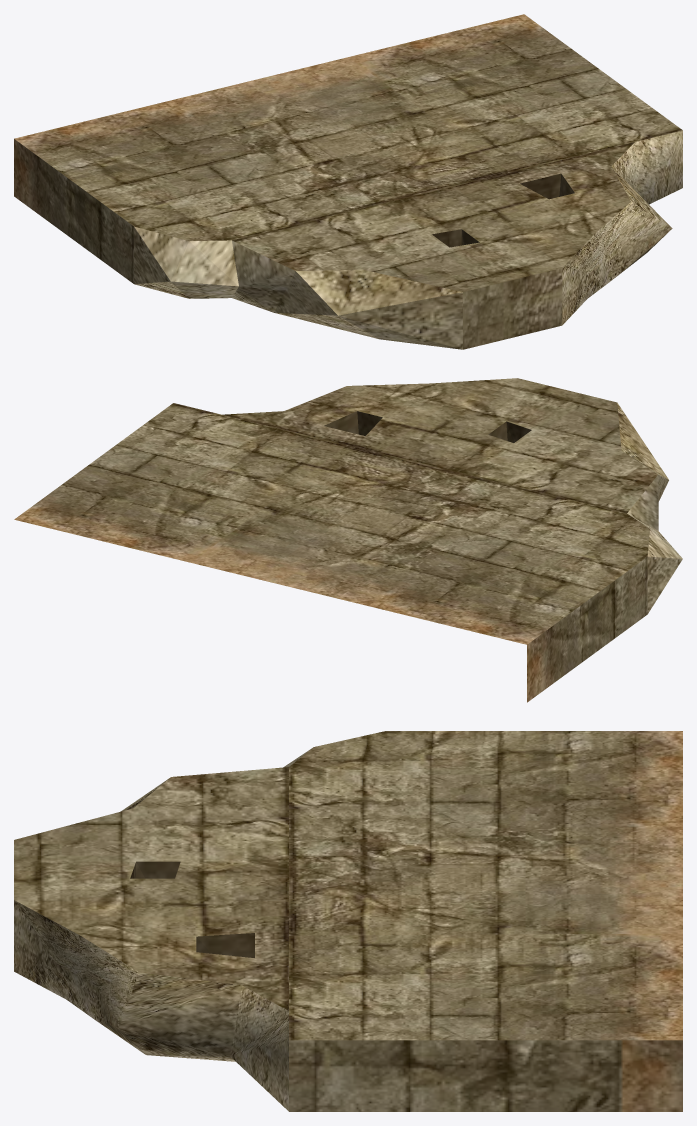
3 renders of one model, top to bottom at view 1: azimuth 30°, elevation 25°; view 2: azimuth 150°, elevation 25°; view 3: azimuth 270°, elevation 25°, orthographic. The views are drawn at different scales.
Visible parts, largest first — view 1: model_Object33; view 2: model_Object33; view 3: model_Object33.
Boxes of the visible parts, x1,y1,x2,y2 form: model_Object33: (14,14,682,349); model_Object33: (14,378,682,702); model_Object33: (14,731,682,1111).
Size of the model in its own units: 4.66 by 0.5031 by 4.26.
3 materials, 3 textured.
